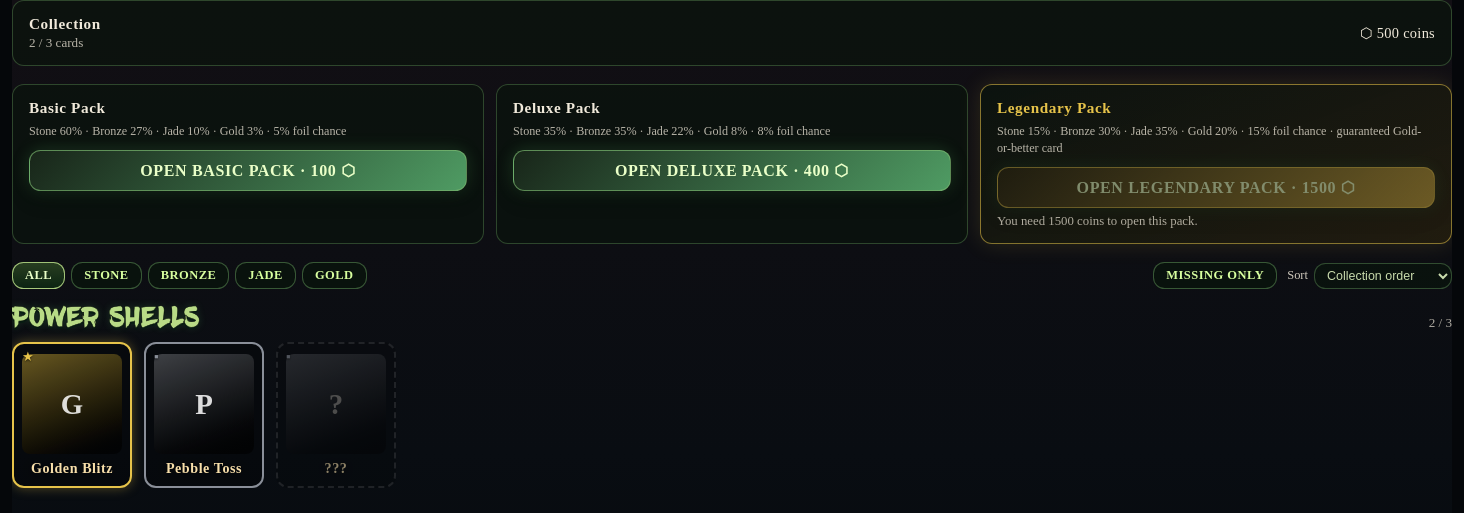
Scenario: ShellCardsModal filters › should show only gold cards when the gold rarity chip is selected
Check: the text "Golden Blitz" is shown, box [31,460,113,476]
Click the button "Gold": (334, 276) [302,262,367,289]
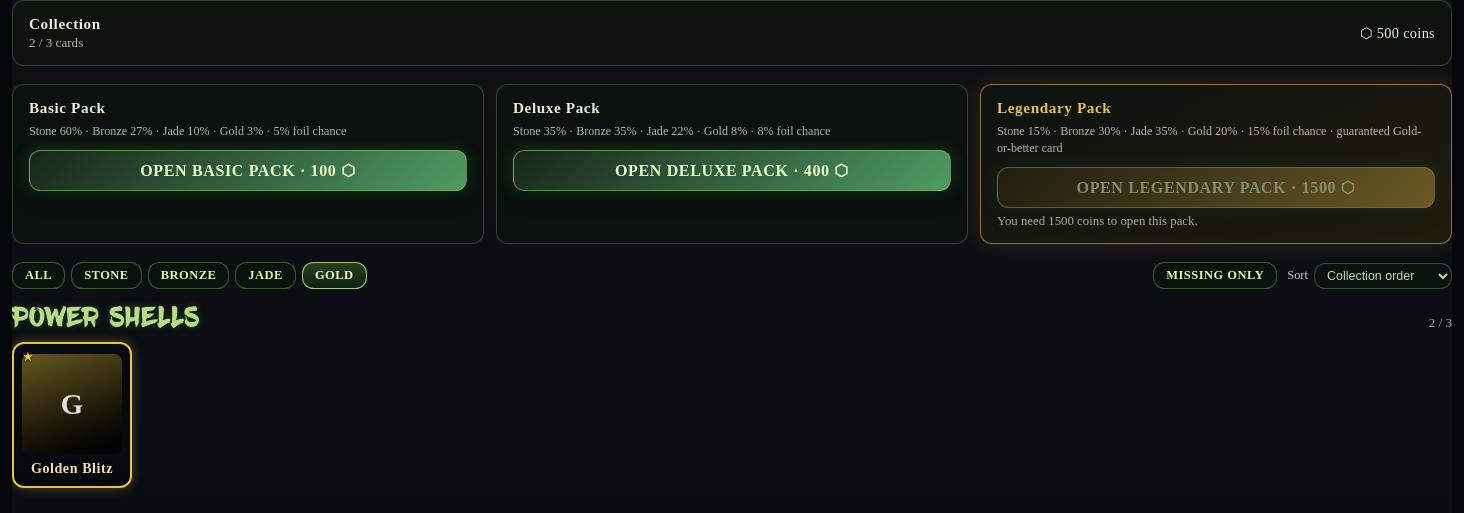
Check: the text "Golden Blitz" is shown, box [31,460,113,476]
Check: the button "Pebble Toss" is gone
